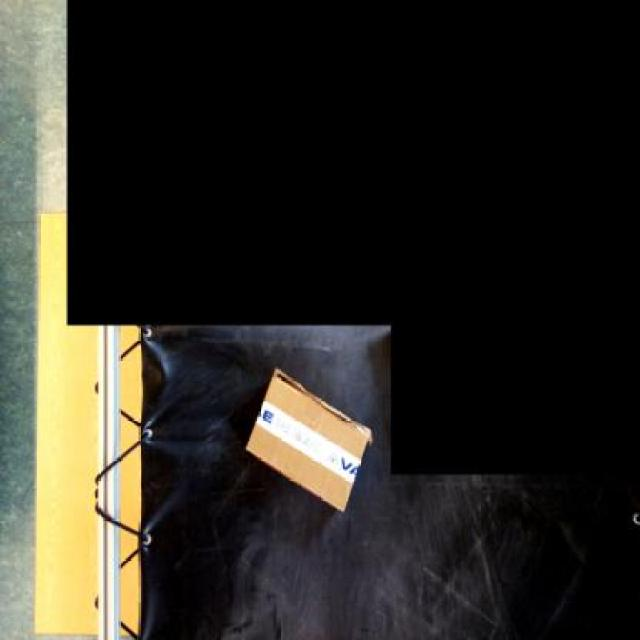cardboxes: (246, 365, 372, 512)
